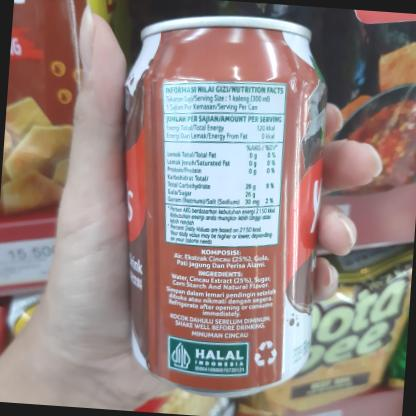alumunium_can: (82, 0, 354, 407)
